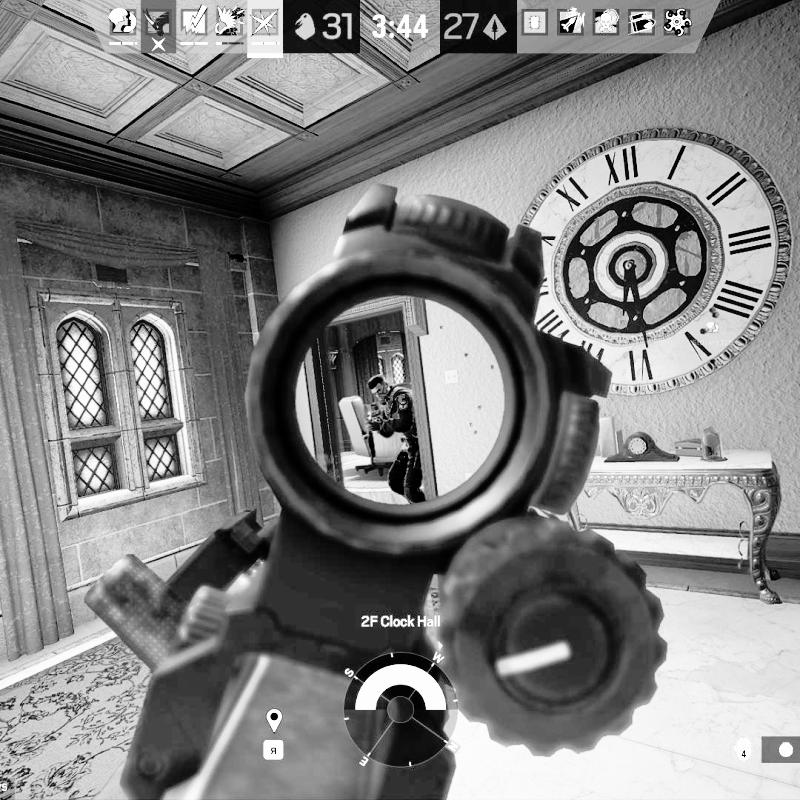Character: (364, 373, 431, 504)
Head: (366, 375, 391, 401)
